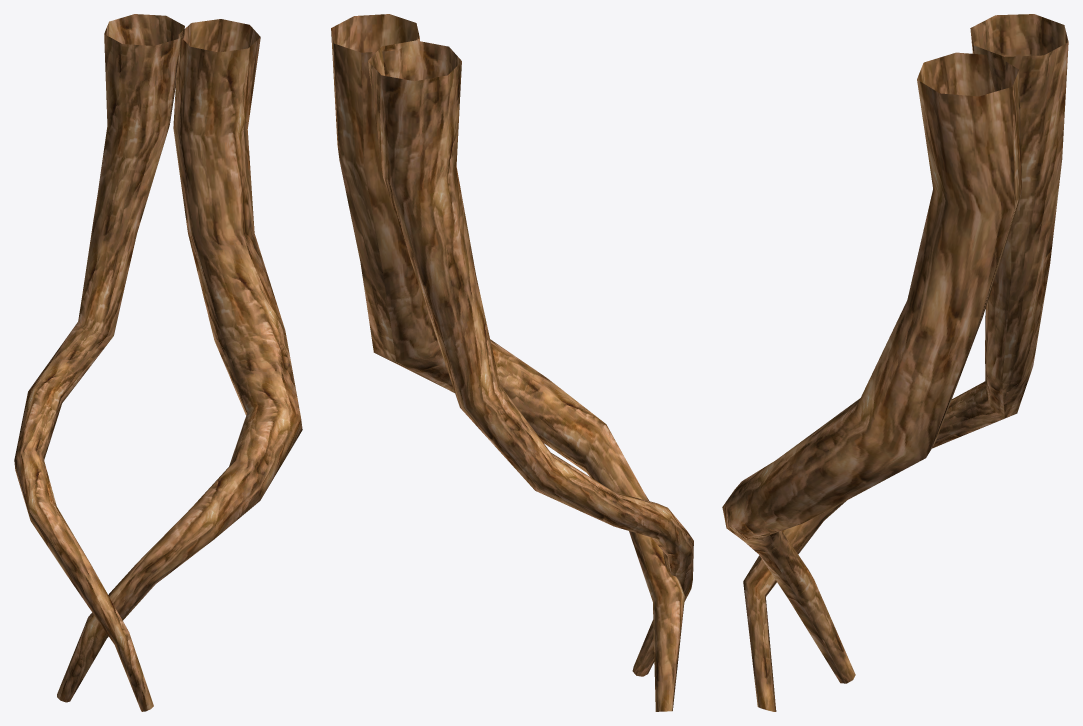
File: EKH_THRONE_PS_TH_ROOT_02.obj
The picture shows the model from 3 angles, left to right: view 1: azimuth 30°, elevation 25°; view 2: azimuth 150°, elevation 25°; view 3: azimuth 270°, elevation 25°; orthographic projection. The views are drawn at different scales.
Parts seen in each view (by area): view 1: TH_root_02; view 2: TH_root_02; view 3: TH_root_02.
Boxes of the visible parts, bbox=[...] form: TH_root_02: bbox=[14, 14, 302, 711]; TH_root_02: bbox=[331, 14, 693, 711]; TH_root_02: bbox=[722, 14, 1068, 711].
Size of the model in its own units: 695 by 1500 by 638.
